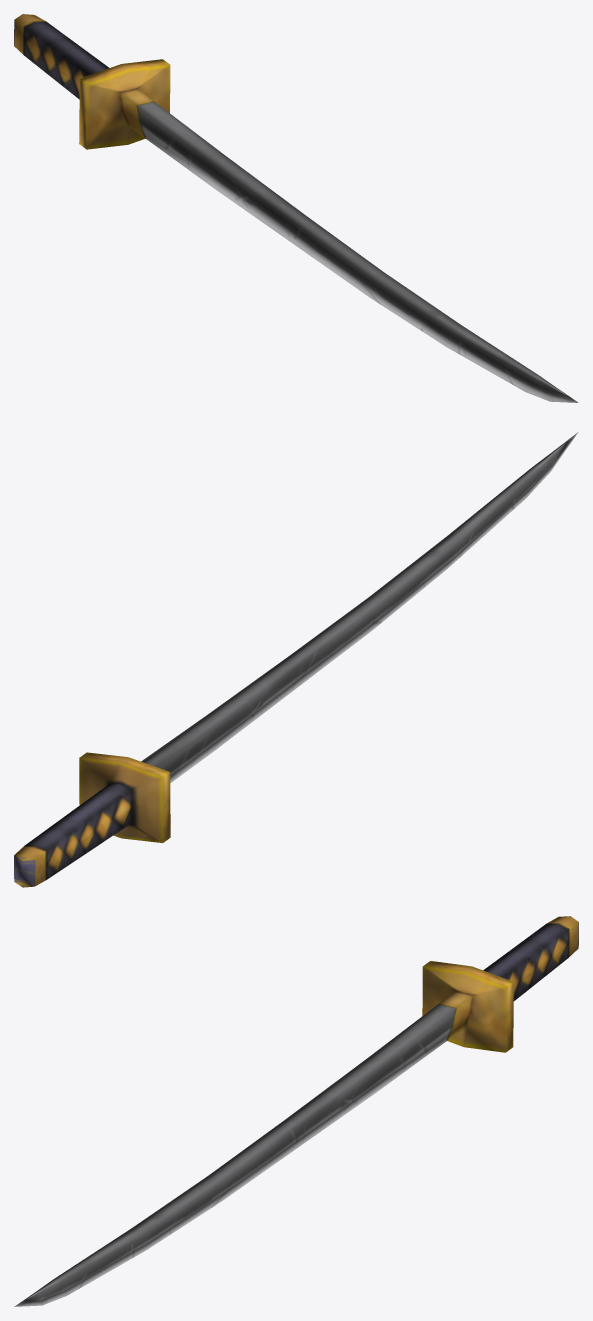
Rendered from Samurai Katana.fbx.
3 renders of one model, top to bottom at view 1: azimuth 30°, elevation 25°; view 2: azimuth 150°, elevation 25°; view 3: azimuth 330°, elevation 25°, orthographic.
Parts seen in each view (by area): view 1: pCylinder3; view 2: pCylinder3; view 3: pCylinder3.
Boxes of the visible parts, left/top/right/bottom form: pCylinder3: left=14, top=14, right=578, bottom=402; pCylinder3: left=14, top=432, right=578, bottom=887; pCylinder3: left=14, top=916, right=578, bottom=1306.
Bounding box in the file's own units: 3.9 × 3.35 × 44.84.
Materials: 1 (1 with a texture image).
